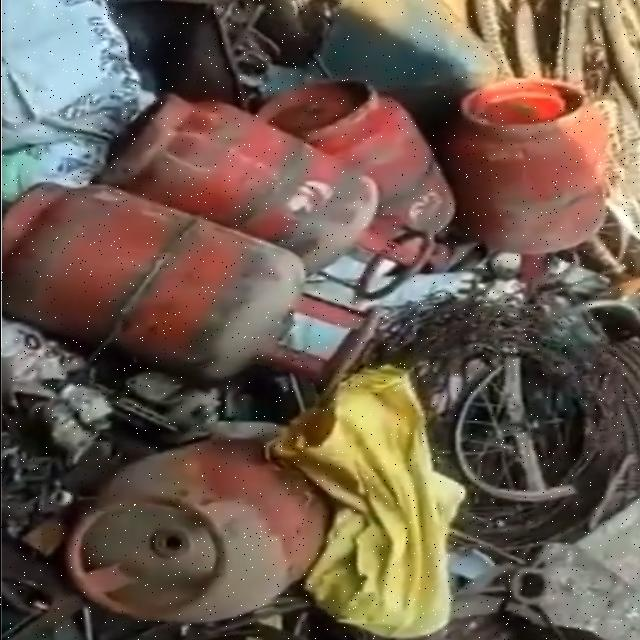cylinder: (2, 182, 382, 399), (88, 93, 435, 300), (63, 441, 330, 623), (448, 78, 606, 283)
